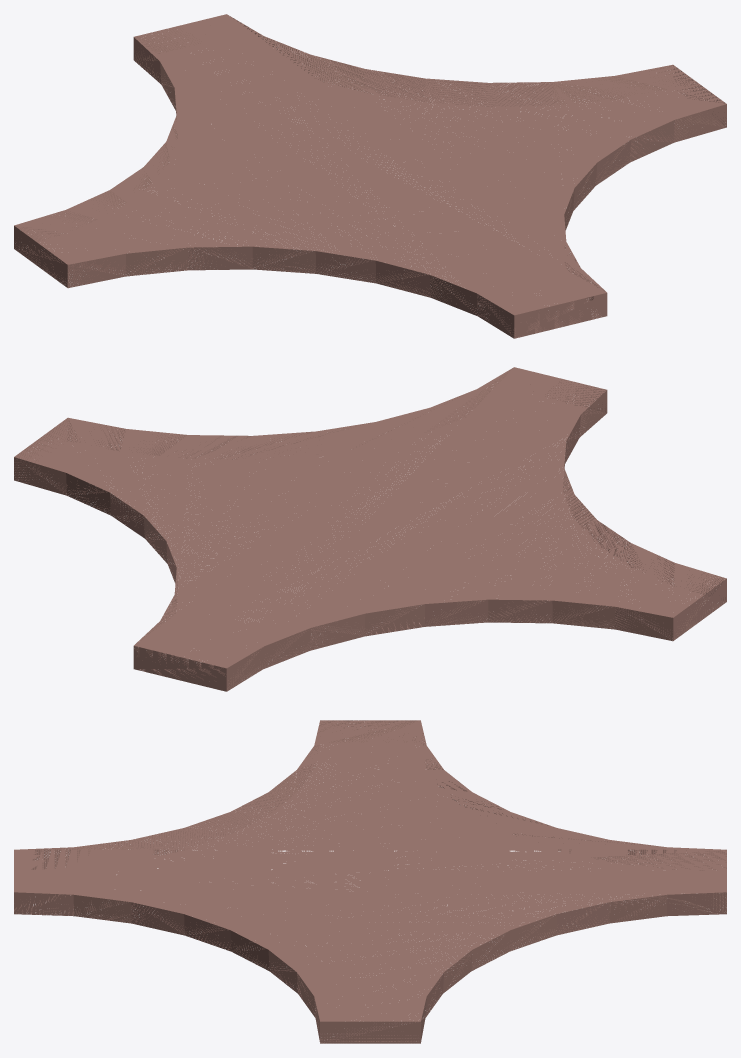
The model's file is SW_ENV_EL_TrackBase_Junction_360Deg_Collision.fbx.
The picture shows the model from 3 angles, top to bottom: view 1: azimuth 30°, elevation 25°; view 2: azimuth 150°, elevation 25°; view 3: azimuth 270°, elevation 25°; orthographic projection. The views are drawn at different scales.
Visible parts, largest first — view 1: SW_ENV_EL_TrackBase_Junction_360Deg_Collision; view 2: SW_ENV_EL_TrackBase_Junction_360Deg_Collision; view 3: SW_ENV_EL_TrackBase_Junction_360Deg_Collision.
Boxes of the visible parts, x1,y1,x2,y2 form: SW_ENV_EL_TrackBase_Junction_360Deg_Collision: (14,14,726,338); SW_ENV_EL_TrackBase_Junction_360Deg_Collision: (14,367,726,691); SW_ENV_EL_TrackBase_Junction_360Deg_Collision: (14,720,726,1043).
Bounding box in the file's own units: 5450 × 185 × 5450.
